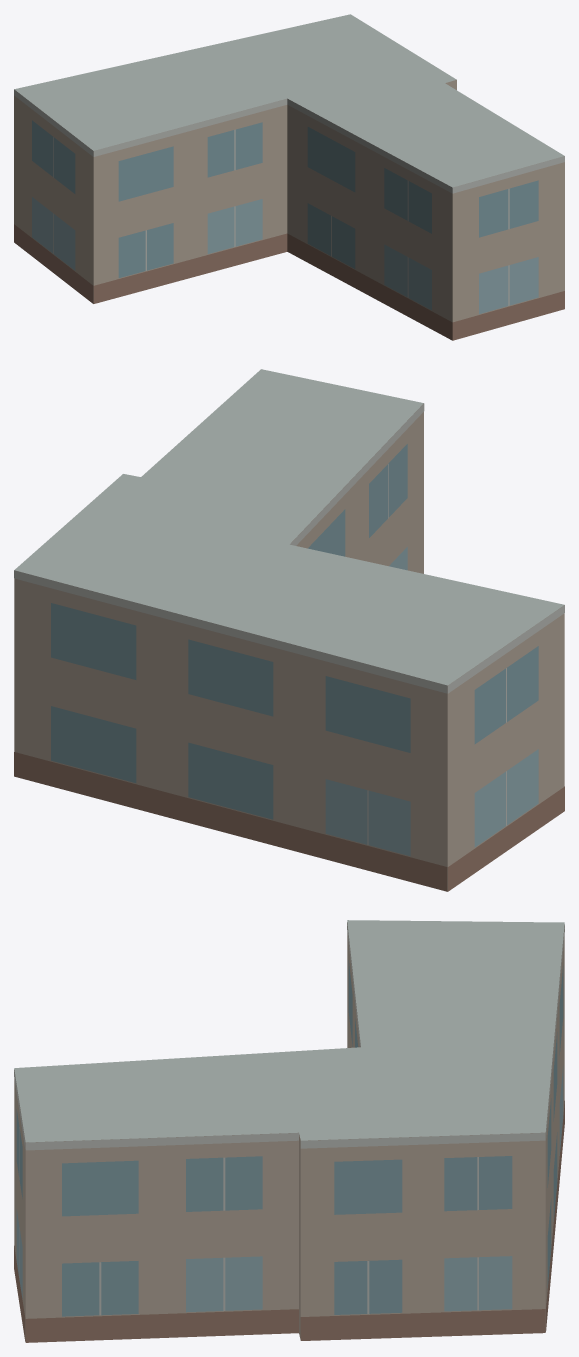
Rendered from survey-upis-32759485.glb.
3 renders of one model, top to bottom at view 1: azimuth 30°, elevation 25°; view 2: azimuth 150°, elevation 25°; view 3: azimuth 270°, elevation 25°, orthographic. The views are drawn at different scales.
Parts seen in each view (by area): view 1: survey-upis-32759485.tmp; view 2: survey-upis-32759485.tmp; view 3: survey-upis-32759485.tmp.
Boxes of the visible parts, x1,y1,x2,y2 form: survey-upis-32759485.tmp: (14,14,564,340); survey-upis-32759485.tmp: (14,369,564,891); survey-upis-32759485.tmp: (14,920,564,1342).
Bounding box in the file's own units: 14.53 × 6.1 × 15.21.
